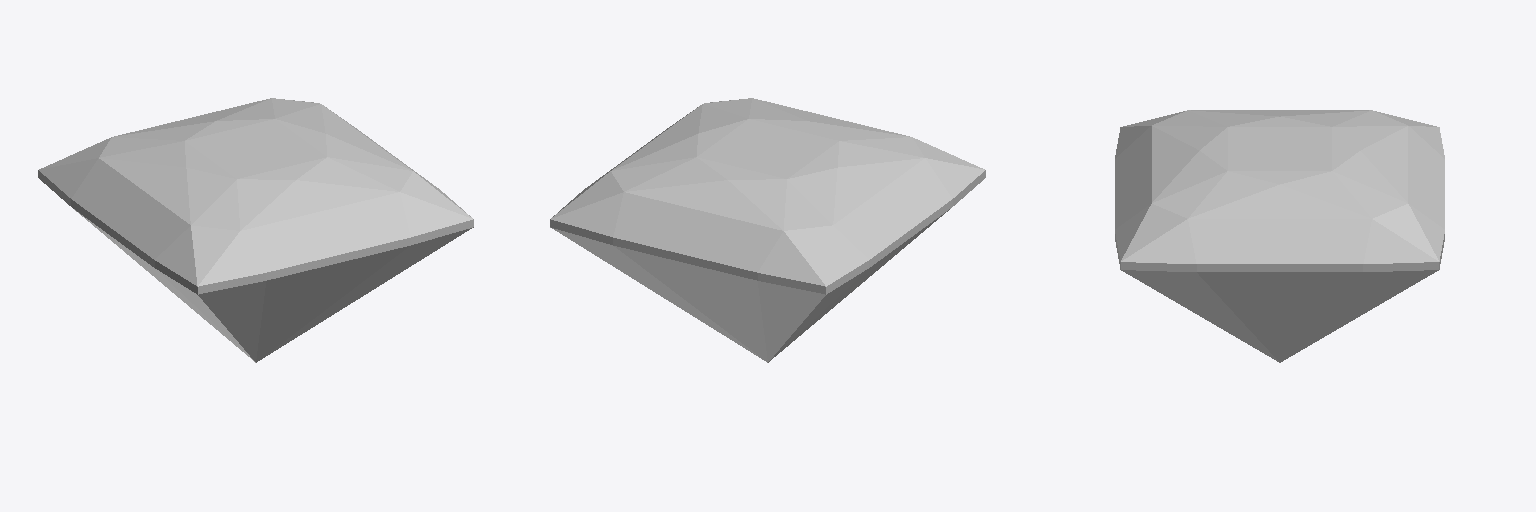
The picture shows the model from 3 angles: view 1: azimuth 30°, elevation 25°; view 2: azimuth 150°, elevation 25°; view 3: azimuth 270°, elevation 25°; orthographic projection.
Visible parts, largest first — view 1: Main_Diamond; view 2: Main_Diamond; view 3: Main_Diamond.
Part boxes in pixels (x1,y1,x2,y2): Main_Diamond: (38, 98, 473, 362); Main_Diamond: (550, 98, 985, 362); Main_Diamond: (1115, 110, 1444, 362).
Bounding box in the file's own units: 13.46 × 9.61 × 13.46.